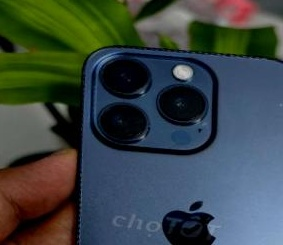scratch: (83, 53, 217, 157), (252, 87, 283, 113)
